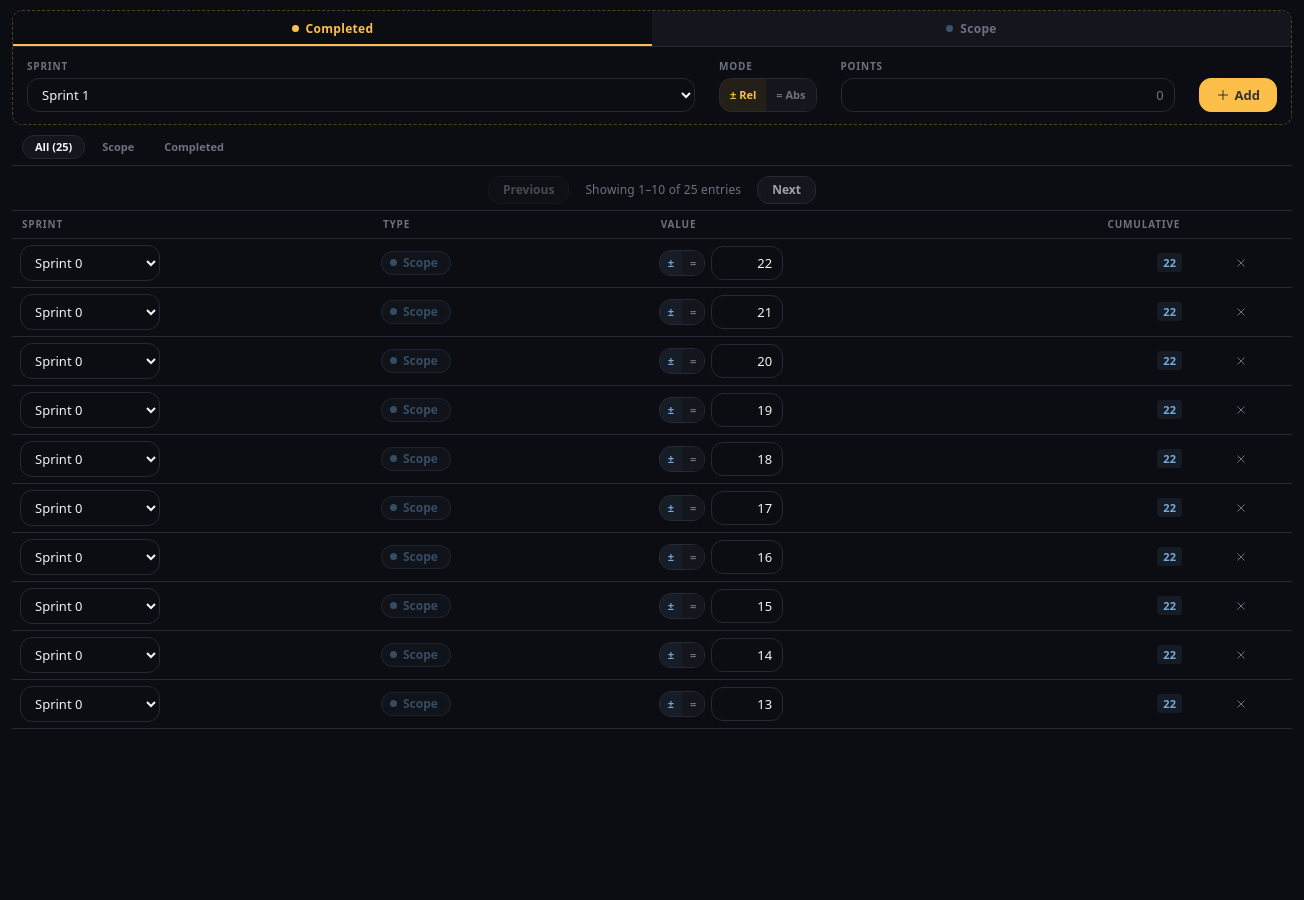
DataTable › pagination › disables Previous on first page and Next on last page
Expected: the button with aria-label "Previous page" is disabled, [488,176,569,204]
# Navigate to page 3 (last page)
What coordinates should you click on to do the following:
click the button with aria-label "Next page"
I would click on:
 (787, 190)
Its box is [757,176,816,204].
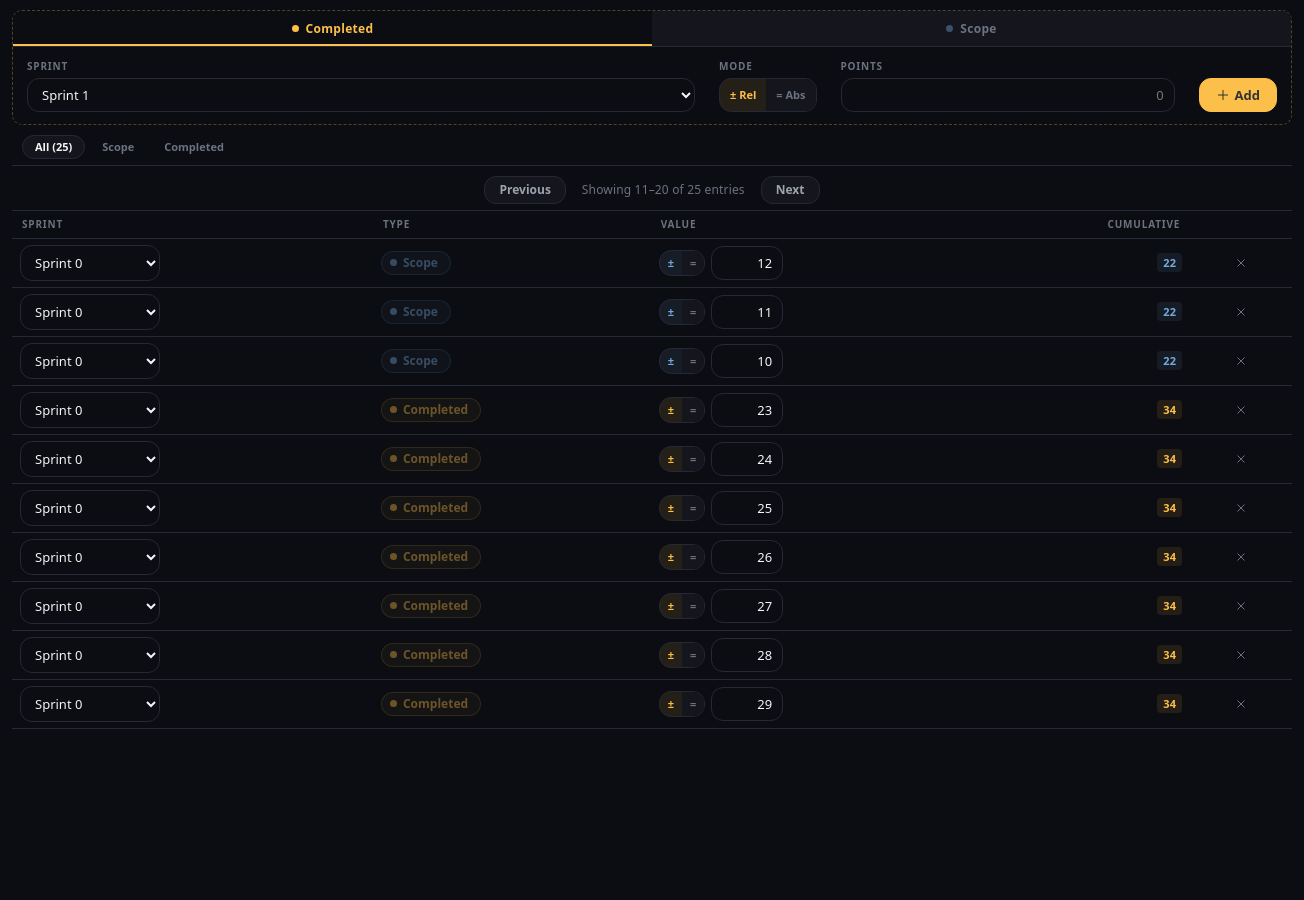
What coordinates should you click on to do the following:
click the button with aria-label "Next page"
I would click on:
 (790, 190)
Its box is [761,176,820,204].
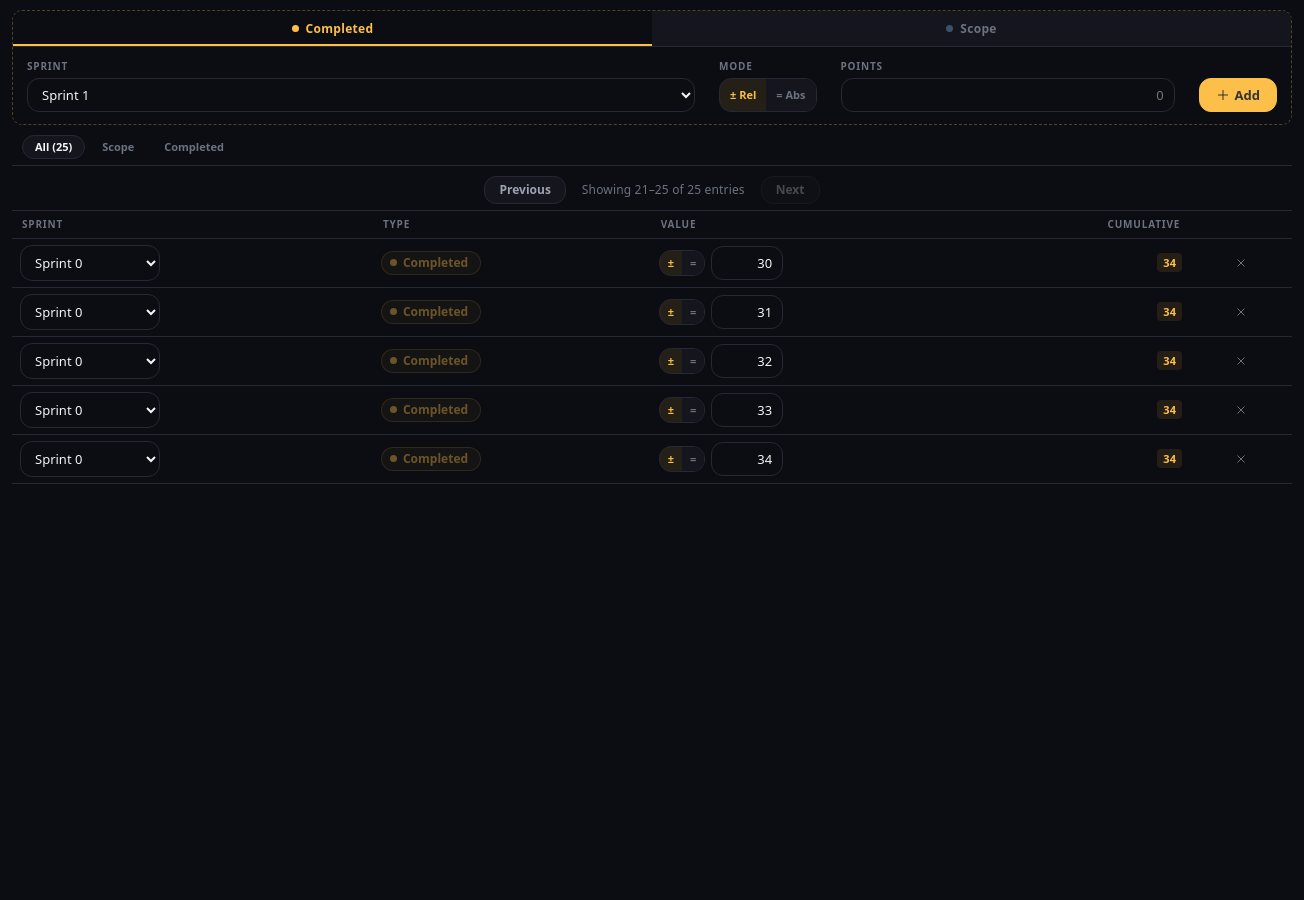
Now the text "Showing 21–25 of 25 entries" is shown, box [582,181,745,199]
Now the button with aria-label "Next page" is disabled, box [761,176,820,204]
